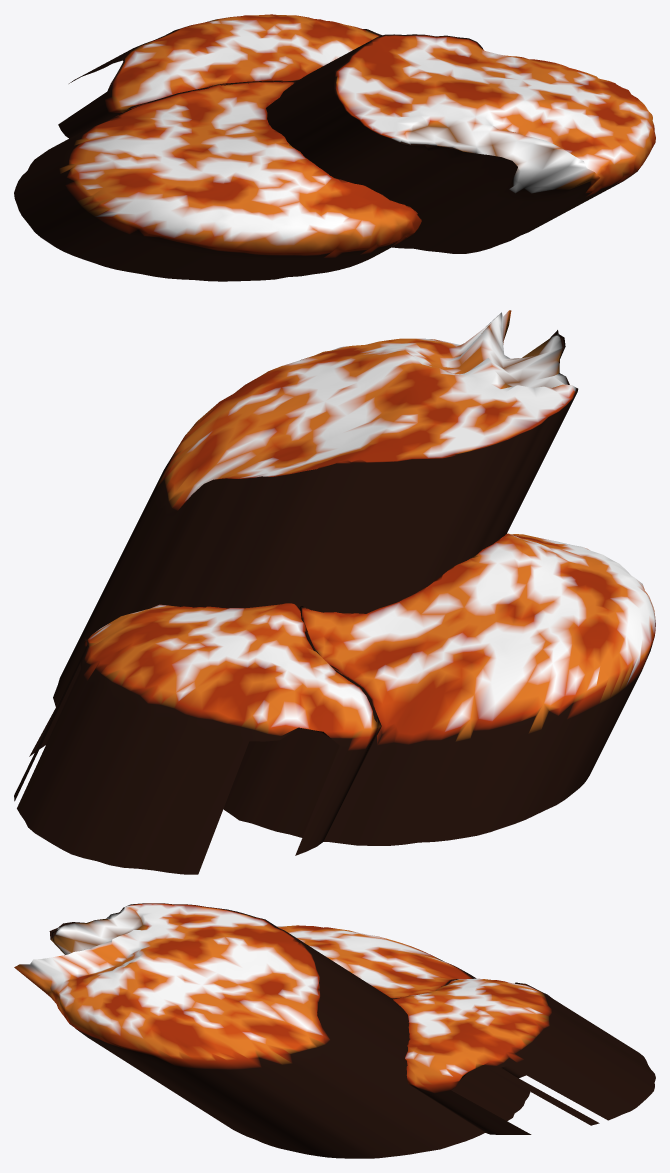
File: SM_D01_wok.fbx
3 views of the same model, one above another, from view 1: azimuth 30°, elevation 25°; view 2: azimuth 150°, elevation 25°; view 3: azimuth 270°, elevation 25° (orthographic). The views are drawn at different scales.
Parts seen in each view (by area): view 1: SM_D01_wok; view 2: SM_D01_wok; view 3: SM_D01_wok.
Part boxes in pixels (<box>): SM_D01_wok: <box>14,14,655,281</box>; SM_D01_wok: <box>14,310,655,874</box>; SM_D01_wok: <box>14,903,655,1158</box>.
Bounding box in the file's own units: 0.163 × 0.0651 × 0.2565.
